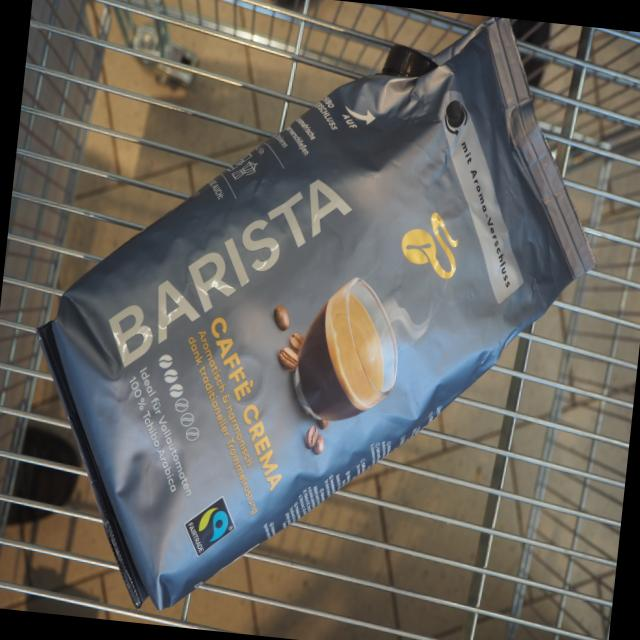Barista CC: (28, 11, 628, 626)
